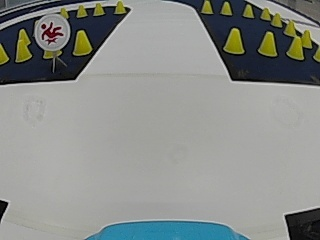cone: (223, 27, 244, 56), (257, 31, 278, 57), (72, 30, 91, 56), (287, 37, 303, 60), (15, 38, 30, 62), (284, 18, 296, 36), (200, 0, 213, 15), (301, 29, 311, 48), (220, 1, 232, 16), (242, 3, 254, 18), (114, 0, 126, 14), (0, 44, 8, 65), (271, 11, 281, 27), (93, 2, 104, 16), (76, 4, 87, 18), (260, 5, 270, 20), (60, 7, 69, 19)
tumble: (37, 18, 68, 47)
